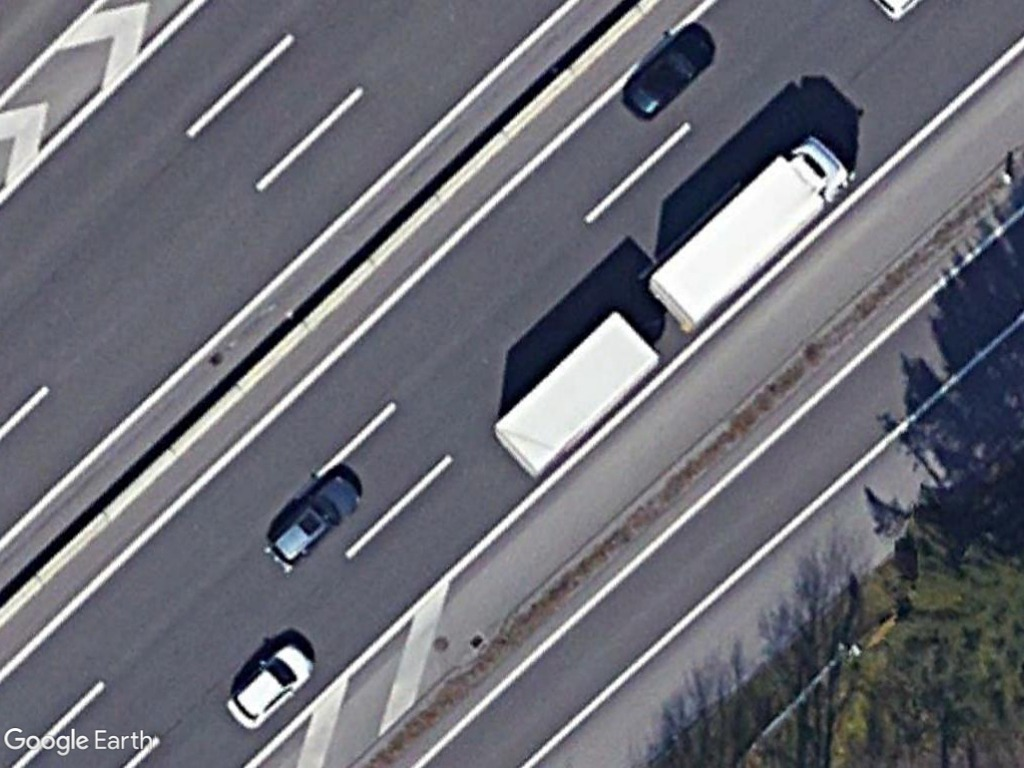car: (264, 470, 363, 573), (621, 29, 715, 120), (226, 642, 318, 732)
truck: (646, 134, 854, 333)
